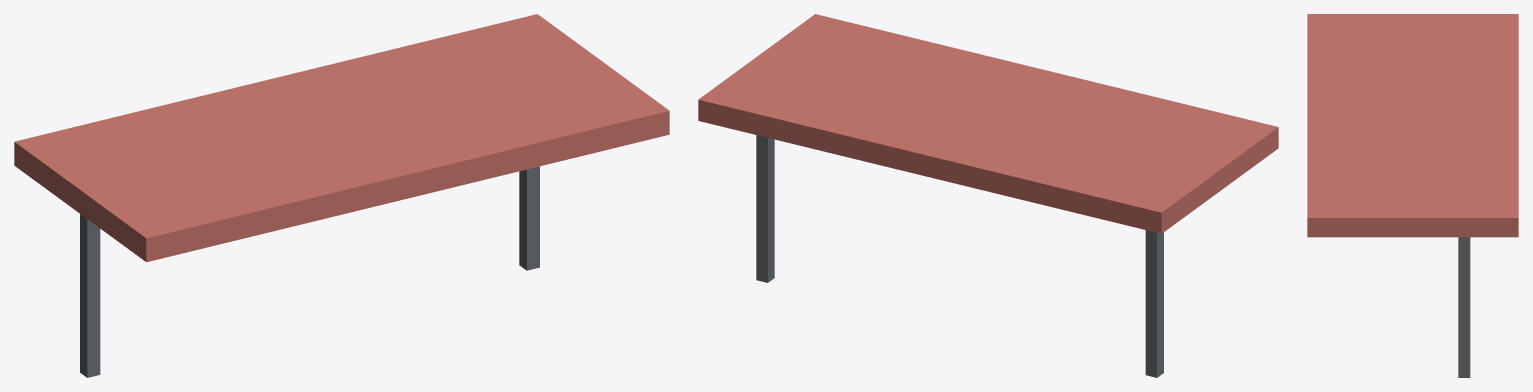
The model's file is awning_04.glb.
The picture shows the model from 3 angles, left to right: view 1: azimuth 30°, elevation 25°; view 2: azimuth 150°, elevation 25°; view 3: azimuth 270°, elevation 25°; orthographic projection. The views are drawn at different scales.
Parts seen in each view (by area): view 1: canopy, brace-0.6719999999999999, brace0.6719999999999999; view 2: canopy, brace-0.6719999999999999, brace0.6719999999999999; view 3: canopy, brace0.6719999999999999.
Part boxes in pixels (x1,y1,x2,y2): canopy: (14,14,669,262); brace-0.6719999999999999: (80,214,100,377); brace0.6719999999999999: (519,166,539,270); canopy: (698,14,1278,233); brace-0.6719999999999999: (1145,230,1163,377); brace0.6719999999999999: (756,135,774,282); canopy: (1307,14,1518,237); brace0.6719999999999999: (1458,237,1470,377).
Bounding box in the file's own units: 1.6 × 0.635 × 0.7.
